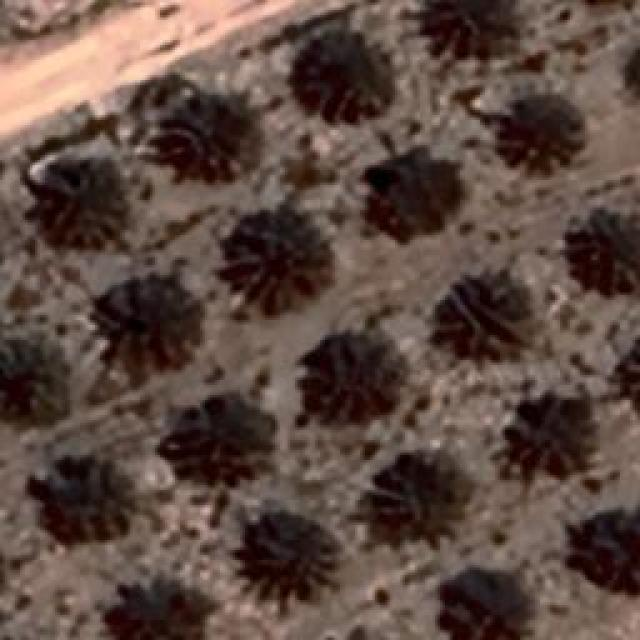PalmTree: (220, 202, 338, 316), (91, 285, 204, 380), (20, 160, 128, 252), (162, 88, 262, 186), (176, 408, 279, 492), (50, 450, 140, 540), (242, 514, 336, 598), (304, 334, 402, 414), (364, 149, 458, 229), (505, 391, 590, 479), (371, 451, 461, 529), (0, 328, 70, 428), (437, 276, 525, 354), (440, 570, 538, 640), (304, 32, 388, 112), (498, 98, 582, 178), (419, 0, 529, 58), (565, 208, 640, 292), (117, 577, 210, 640), (577, 514, 640, 604), (608, 332, 640, 433)
